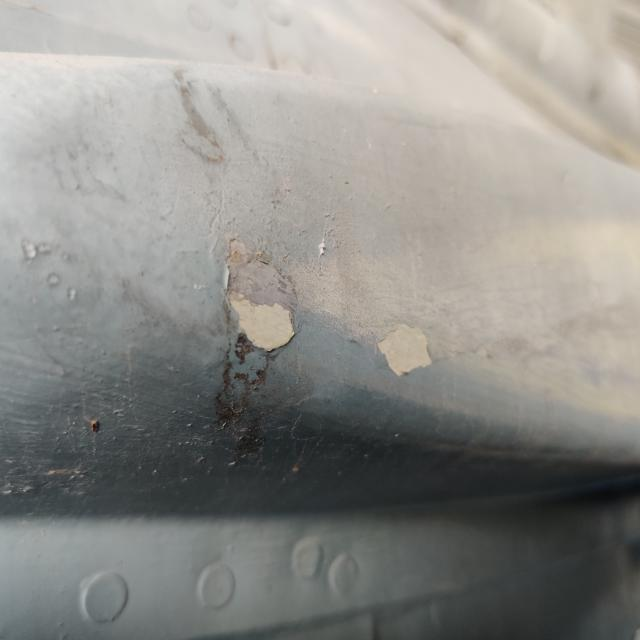paint-off: (218, 282, 310, 372), (365, 309, 450, 394)
